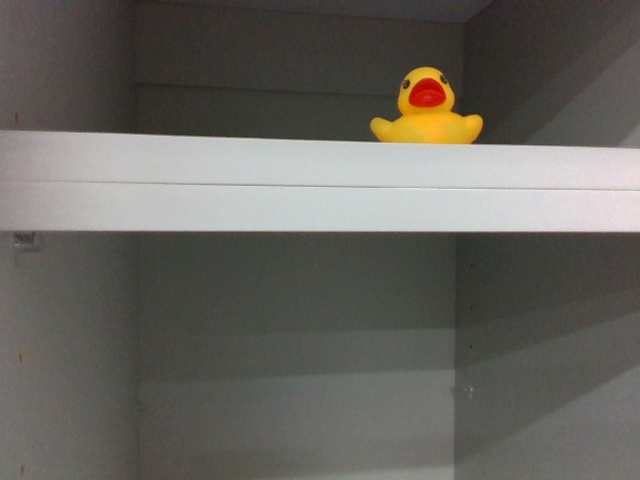duck: (366, 59, 484, 146)
